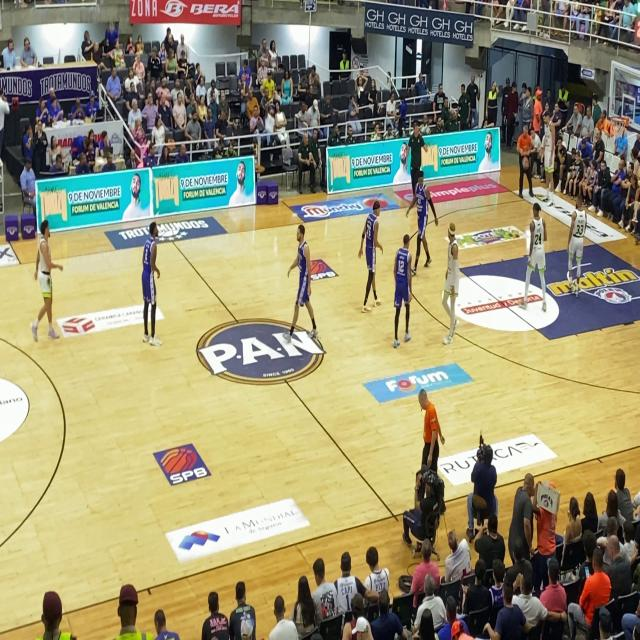Ball: (520, 156, 530, 171)
referee: (415, 379, 448, 468)
team1: (439, 221, 468, 370)
team2: (129, 210, 161, 347), (284, 212, 314, 352), (358, 194, 387, 316), (388, 229, 417, 350), (411, 164, 435, 272)
ubasket: (609, 110, 626, 141)
